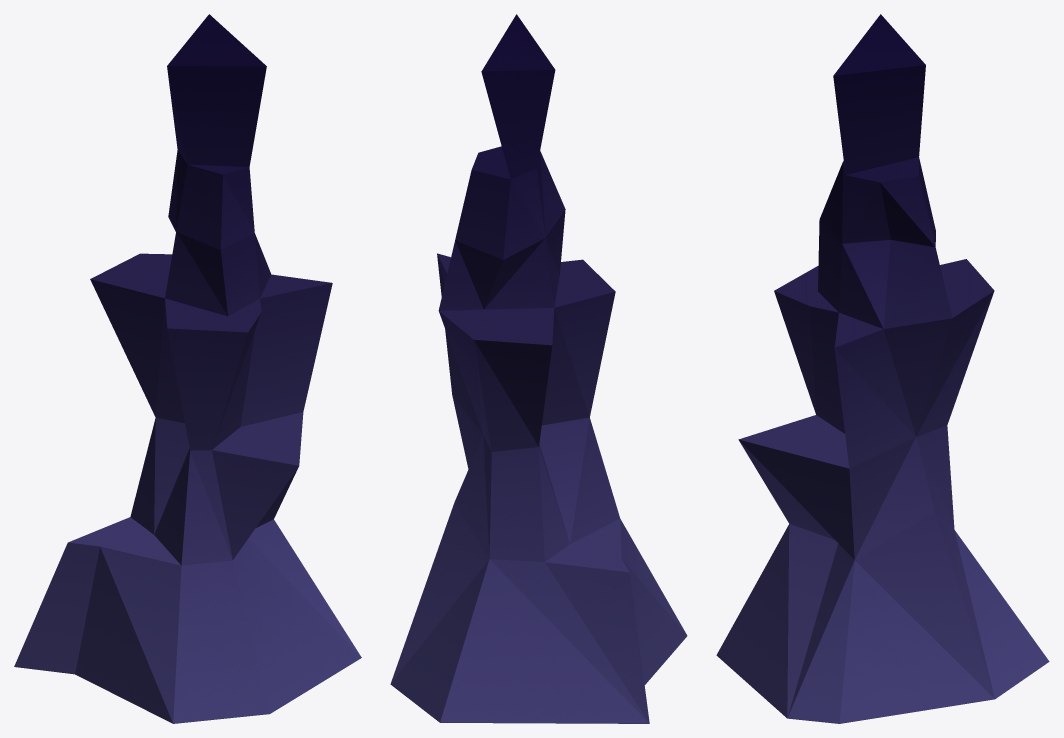
The model's file is MOD_Waypoint (10).fbx.
The picture shows the model from 3 angles, left to right: view 1: azimuth 30°, elevation 25°; view 2: azimuth 150°, elevation 25°; view 3: azimuth 270°, elevation 25°; orthographic projection. The views are drawn at different scales.
Visible parts, largest first — view 1: MOD_Waypoint10; view 2: MOD_Waypoint10; view 3: MOD_Waypoint10.
Boxes of the visible parts, bbox=[...] form: MOD_Waypoint10: bbox=[14, 14, 361, 723]; MOD_Waypoint10: bbox=[390, 14, 687, 723]; MOD_Waypoint10: bbox=[716, 14, 1049, 723].
Size of the model in its own units: 3.01 by 6.51 by 3.02.
